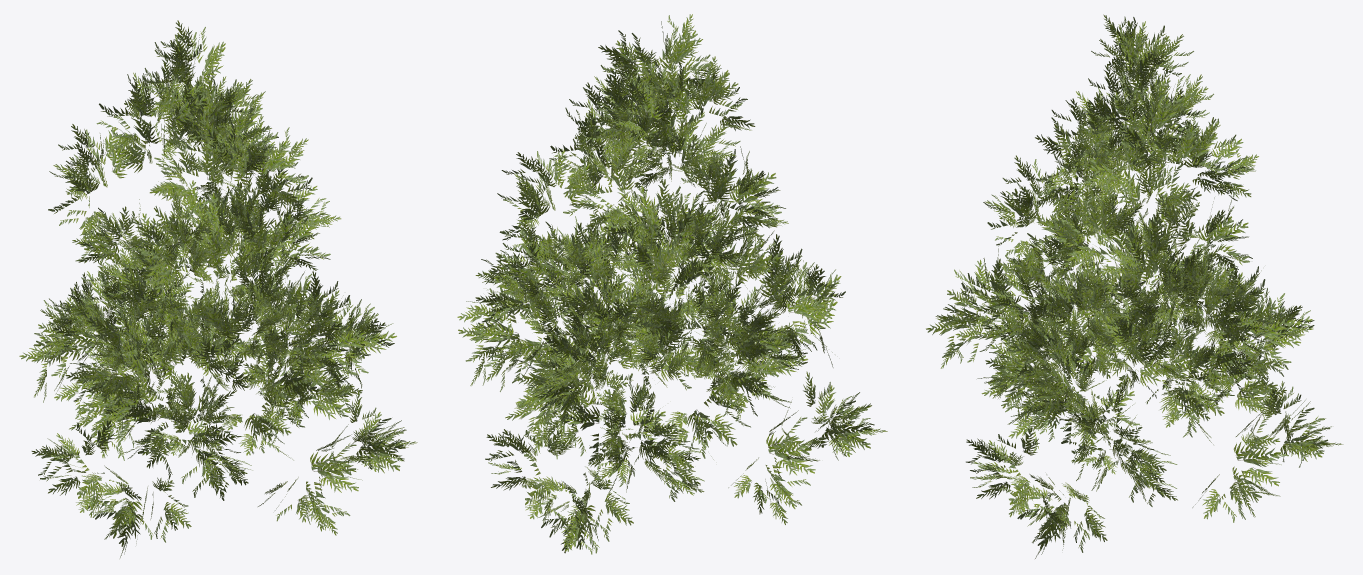
File: Tree_03.fbx
3 views of the same model, side by side, from view 1: azimuth 30°, elevation 25°; view 2: azimuth 150°, elevation 25°; view 3: azimuth 270°, elevation 25° (orthographic). The views are drawn at different scales.
Parts seen in each view (by area): view 1: Leaves.015; view 2: Leaves.015; view 3: Leaves.015.
Boxes of the visible parts, bbox=[...] form: Leaves.015: bbox=[19, 20, 417, 557]; Leaves.015: bbox=[457, 14, 887, 554]; Leaves.015: bbox=[926, 14, 1343, 558].
Bounding box in the file's own units: 214 × 274 × 213.
